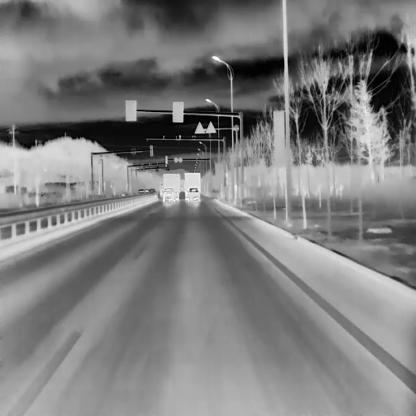car: (162, 188, 175, 202), (186, 187, 199, 201), (149, 187, 157, 195), (138, 188, 144, 193), (144, 188, 150, 193)
truck: (163, 173, 179, 200), (184, 172, 200, 199), (159, 180, 163, 196)
